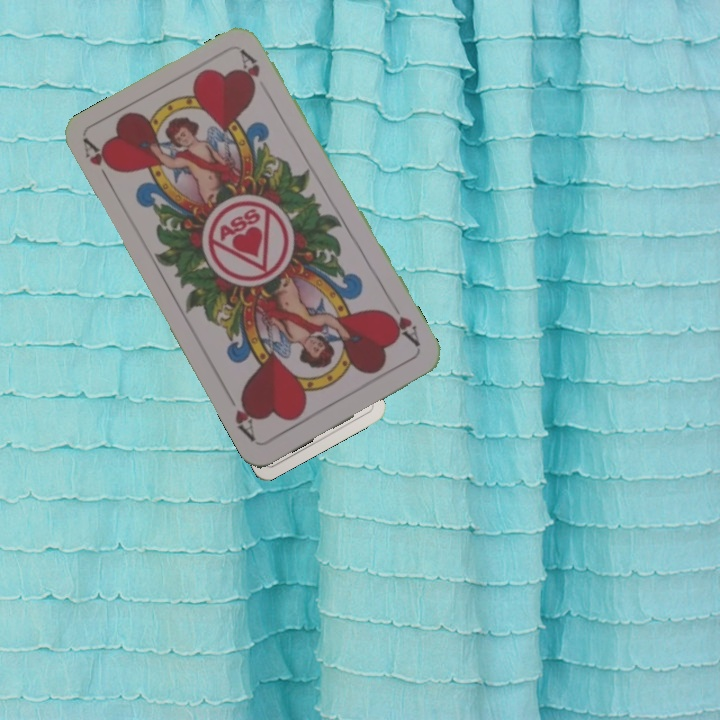HA: (380, 297, 423, 350), (79, 136, 119, 191)
